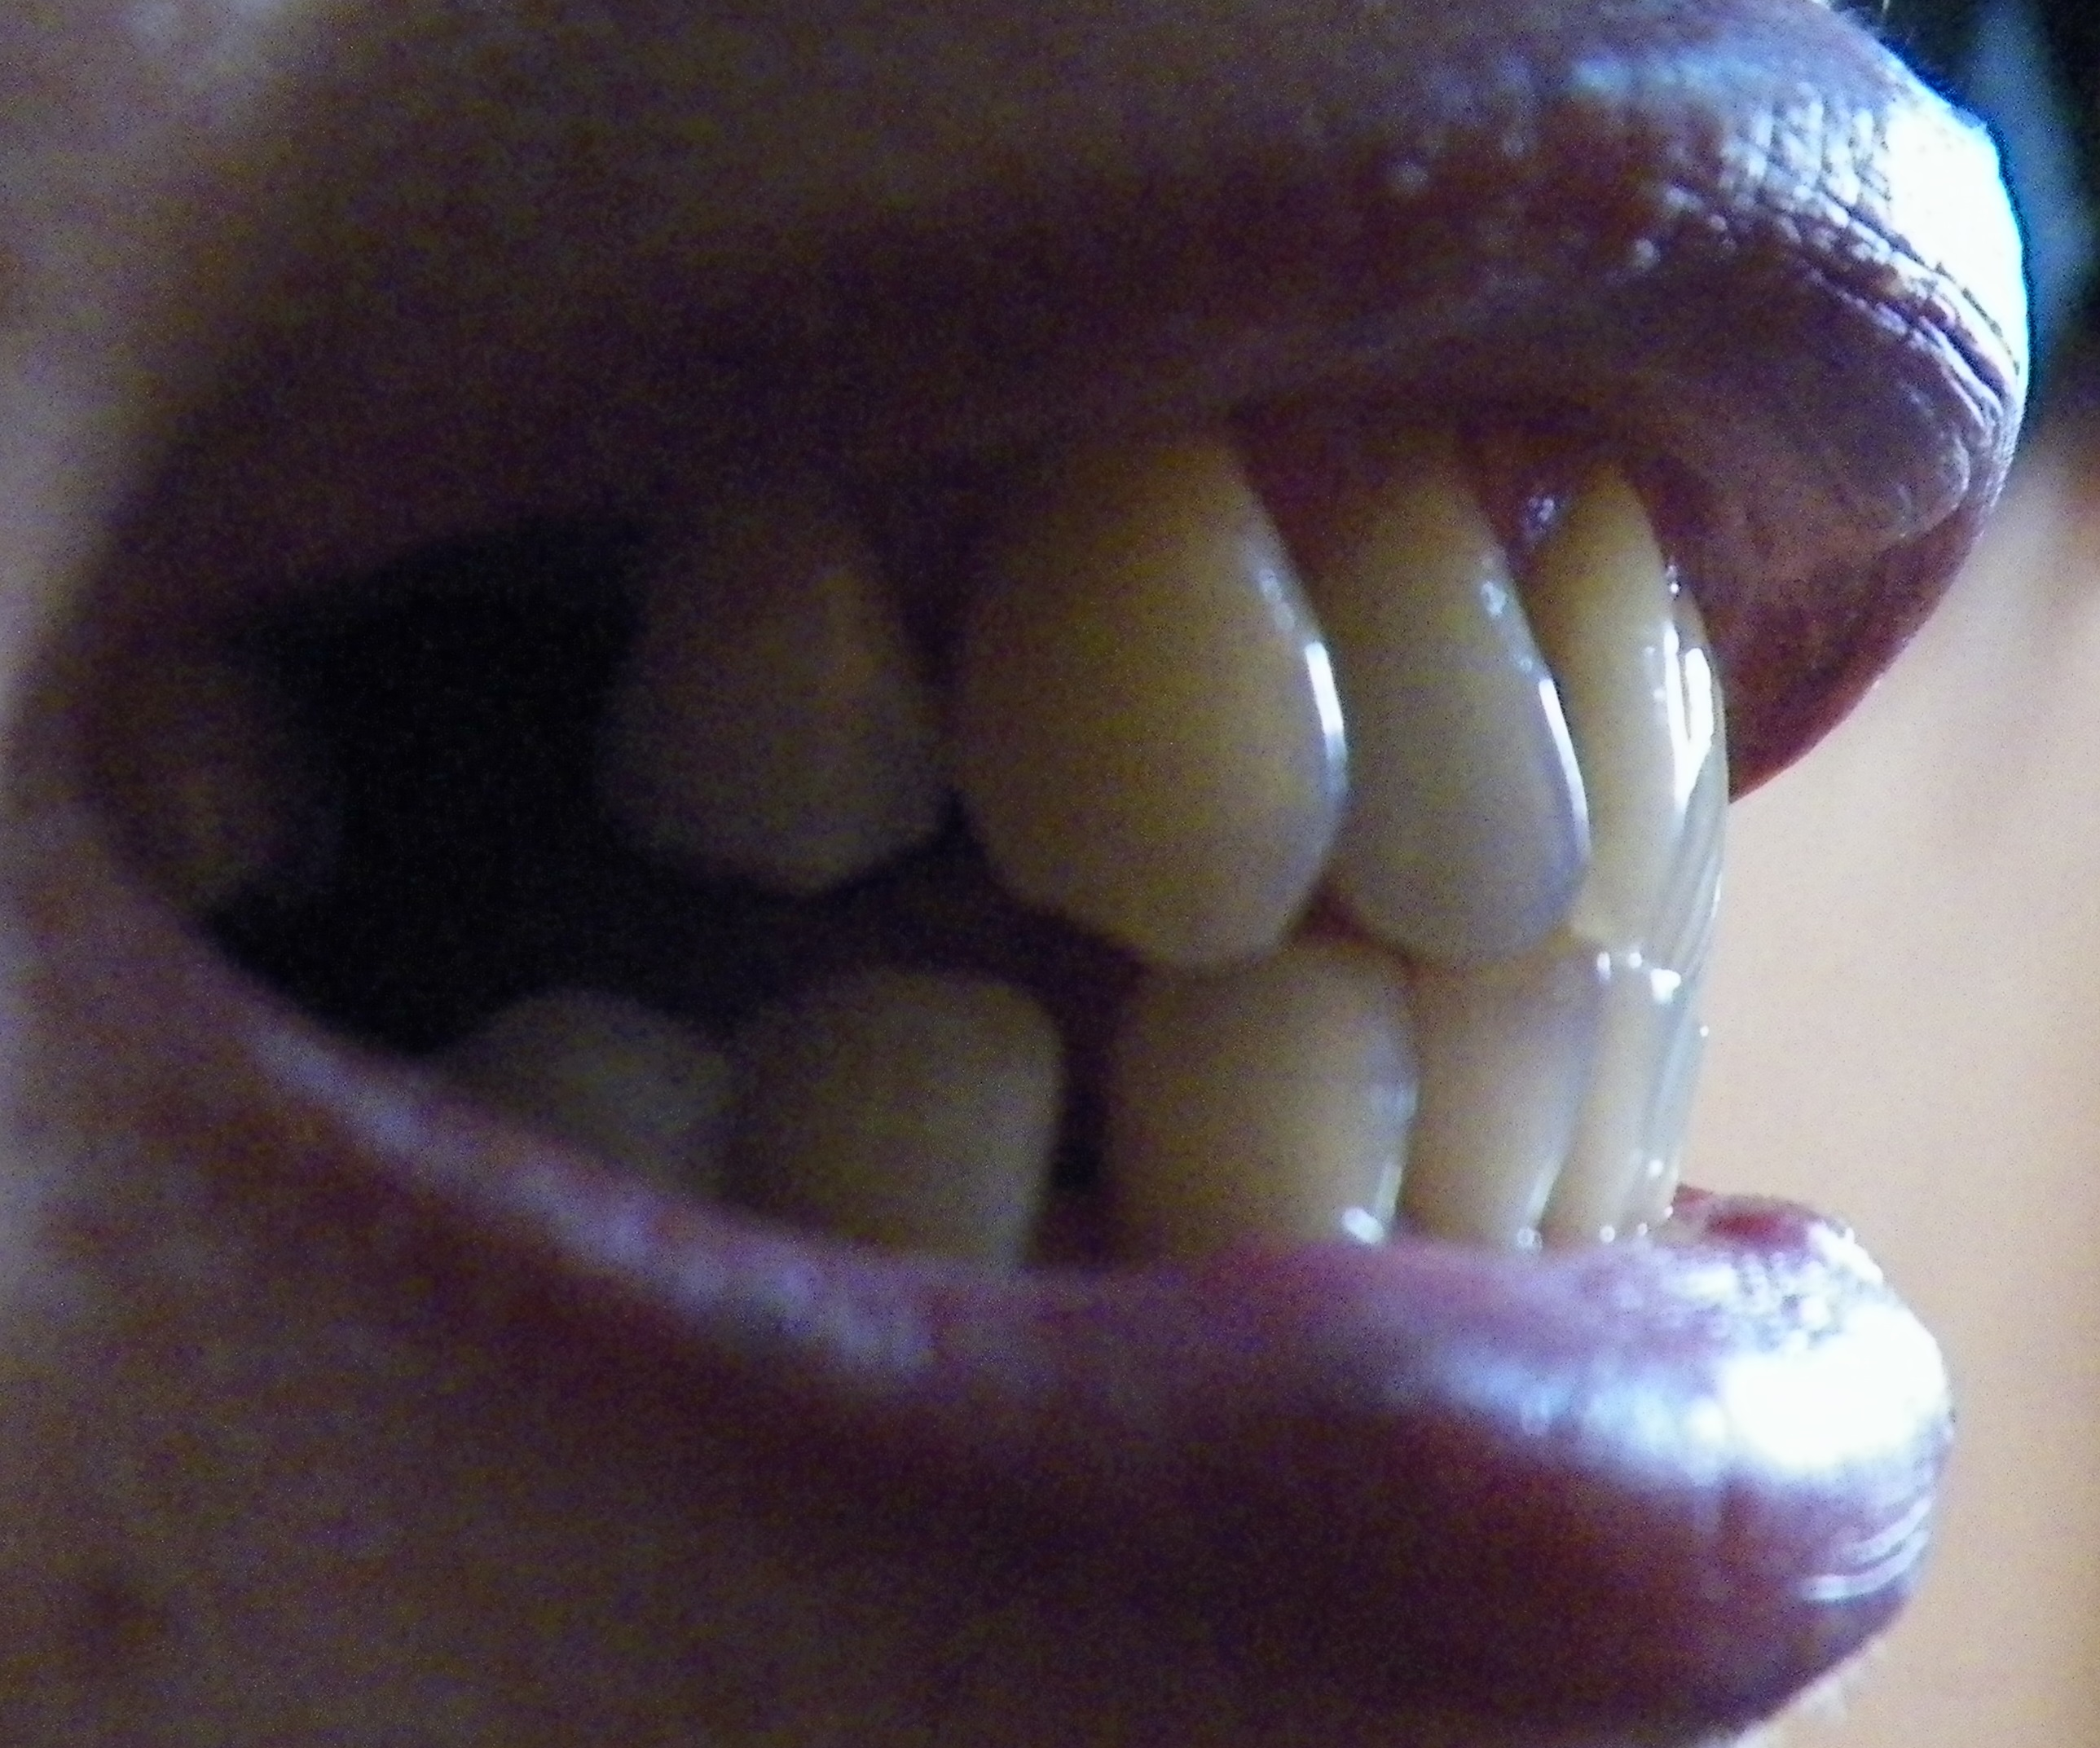boca: (389, 469, 1830, 1228)
